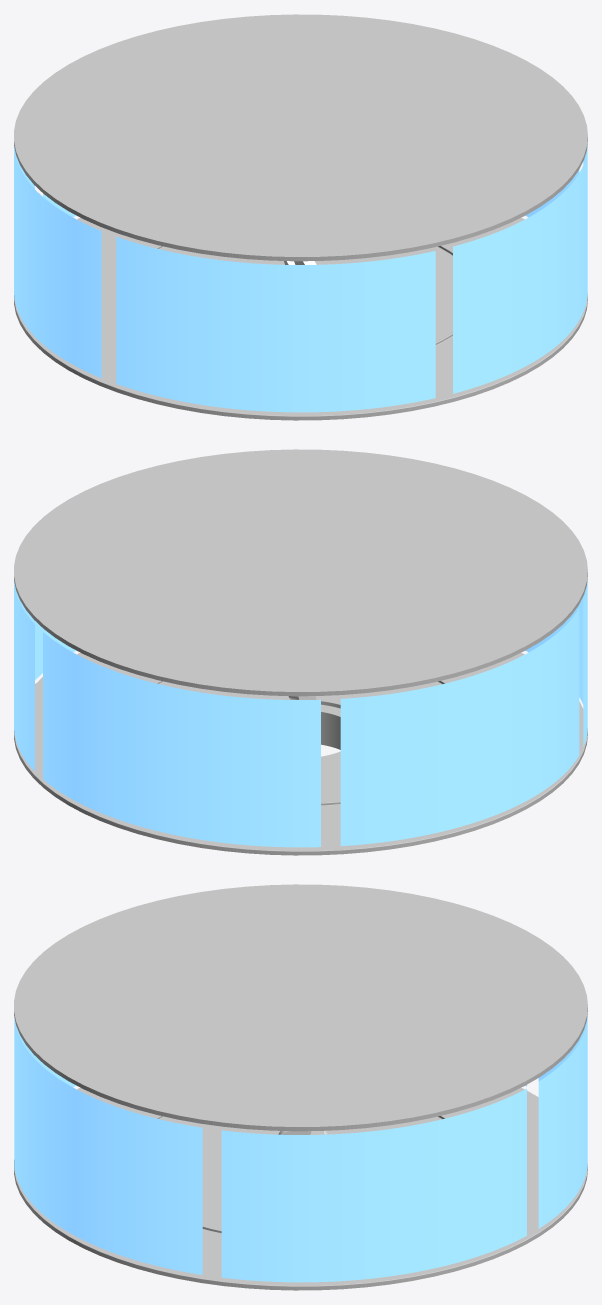
3 views of the same model, one above another, from view 1: azimuth 30°, elevation 25°; view 2: azimuth 150°, elevation 25°; view 3: azimuth 270°, elevation 25° (orthographic).
Parts seen in each view (by area): view 1: Circle.001, Screen_02, Screen_03, Screen_01, Circle; view 2: Circle.001, Screen_00, Screen_01, Circle, Screen_04, Screen_02; view 3: Circle.001, Screen_04, Screen_03, Circle, Screen_00.
Boxes of the visible parts, x1,y1,x2,y2 form: Circle.001: [14, 14, 587, 261]; Screen_02: [116, 236, 435, 412]; Screen_03: [453, 145, 587, 393]; Screen_01: [14, 146, 101, 378]; Circle: [14, 217, 587, 420]; Circle.001: [14, 449, 587, 696]; Screen_00: [43, 632, 320, 847]; Screen_01: [340, 608, 579, 846]; Circle: [14, 652, 587, 855]; Screen_04: [14, 581, 75, 771]; Screen_02: [525, 580, 587, 746]; Circle.001: [14, 884, 587, 1131]; Screen_04: [221, 1088, 526, 1282]; Screen_03: [14, 1021, 202, 1274]; Circle: [14, 1087, 587, 1290]; Screen_00: [538, 1015, 587, 1228].
Bounding box in the file's own units: 12.01 × 4.53 × 12.01.
